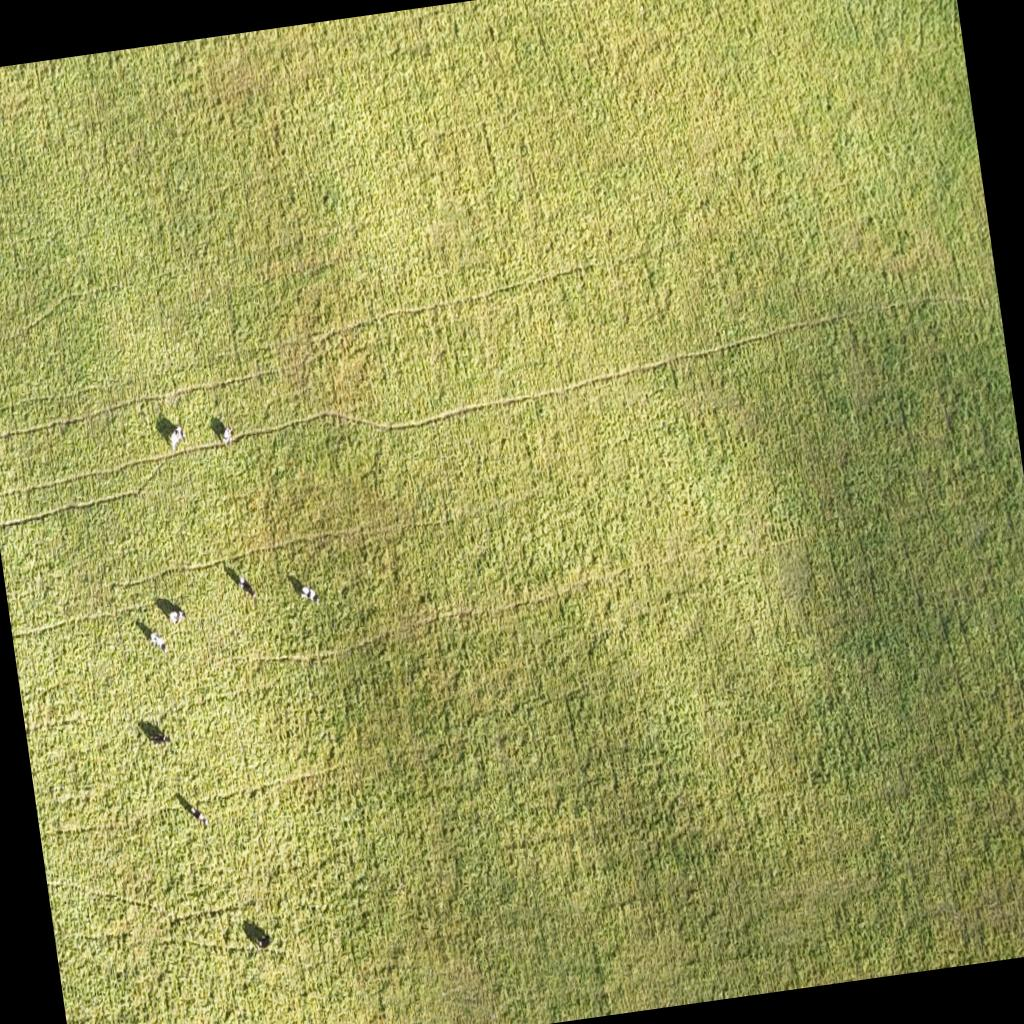cow: (168, 423, 187, 449), (190, 802, 208, 829), (238, 574, 254, 602), (149, 631, 168, 653), (168, 606, 186, 626), (300, 583, 317, 604), (220, 422, 234, 446), (258, 934, 272, 950), (159, 731, 171, 746)
